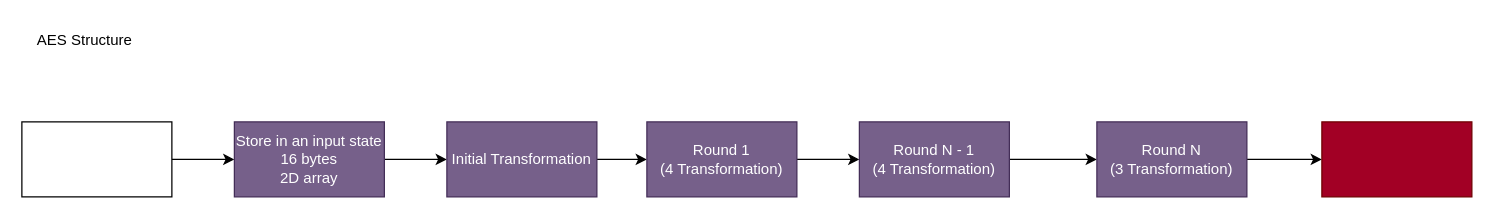
Some shapes in this 1494 by 219 pixel diagram are drawn without their labels. The centre of each missing label's shape, as x and y in pixels:
Cipher Text 16 bytes: [1396,159]
PlainText - 16 bytes 128 bits: [96,159]
